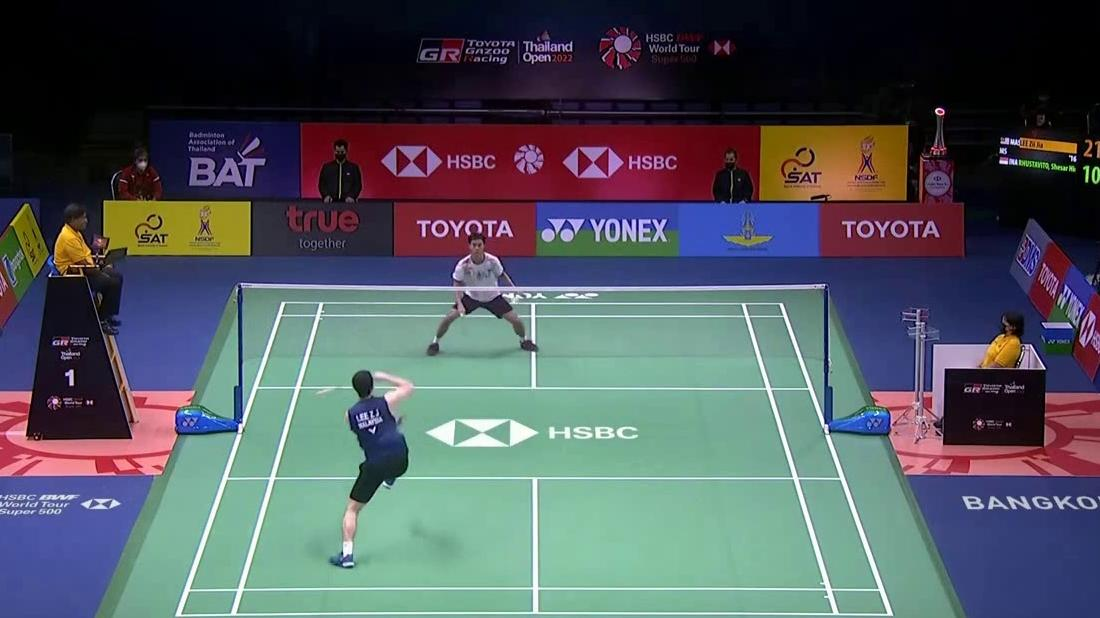racket: (312, 372, 371, 398)
shuttle: (510, 295, 521, 306)
